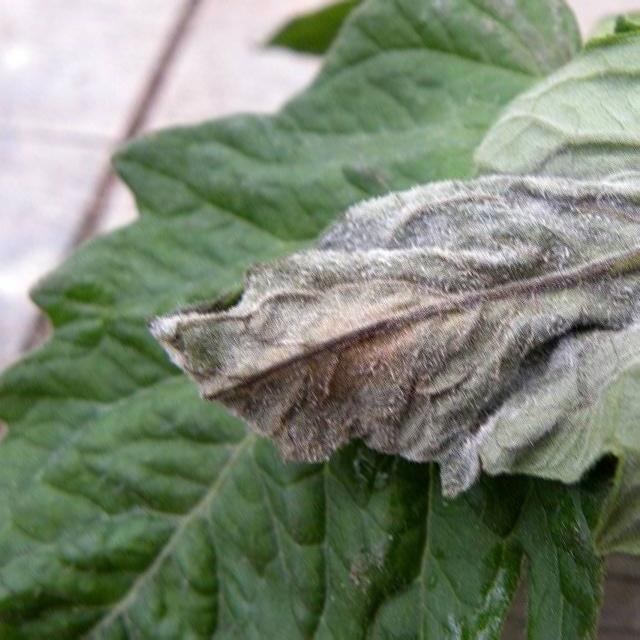Tomato leaf late blight: (137, 0, 640, 557)
